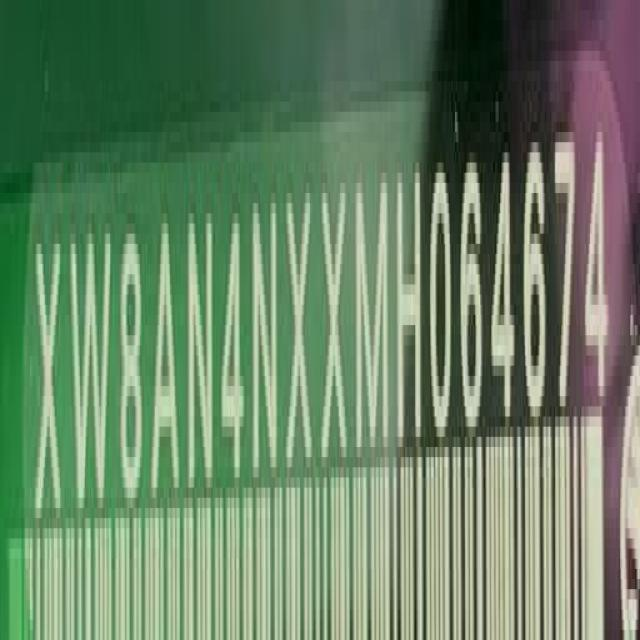0: (428, 152, 454, 445)
4: (586, 118, 614, 410), (491, 141, 518, 431), (221, 192, 247, 492)
6: (522, 136, 548, 425), (461, 150, 486, 438)
7: (555, 130, 581, 425)
8: (118, 215, 144, 510)
A: (149, 211, 180, 508)
H: (393, 147, 424, 455)
M: (357, 165, 393, 461)
N: (251, 183, 282, 486), (189, 196, 218, 501)
W: (70, 226, 110, 520)
X: (36, 227, 66, 528), (286, 170, 316, 470), (322, 170, 351, 462)
